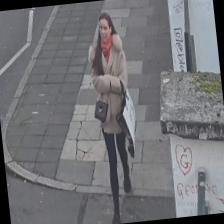person: (84, 11, 142, 224)
